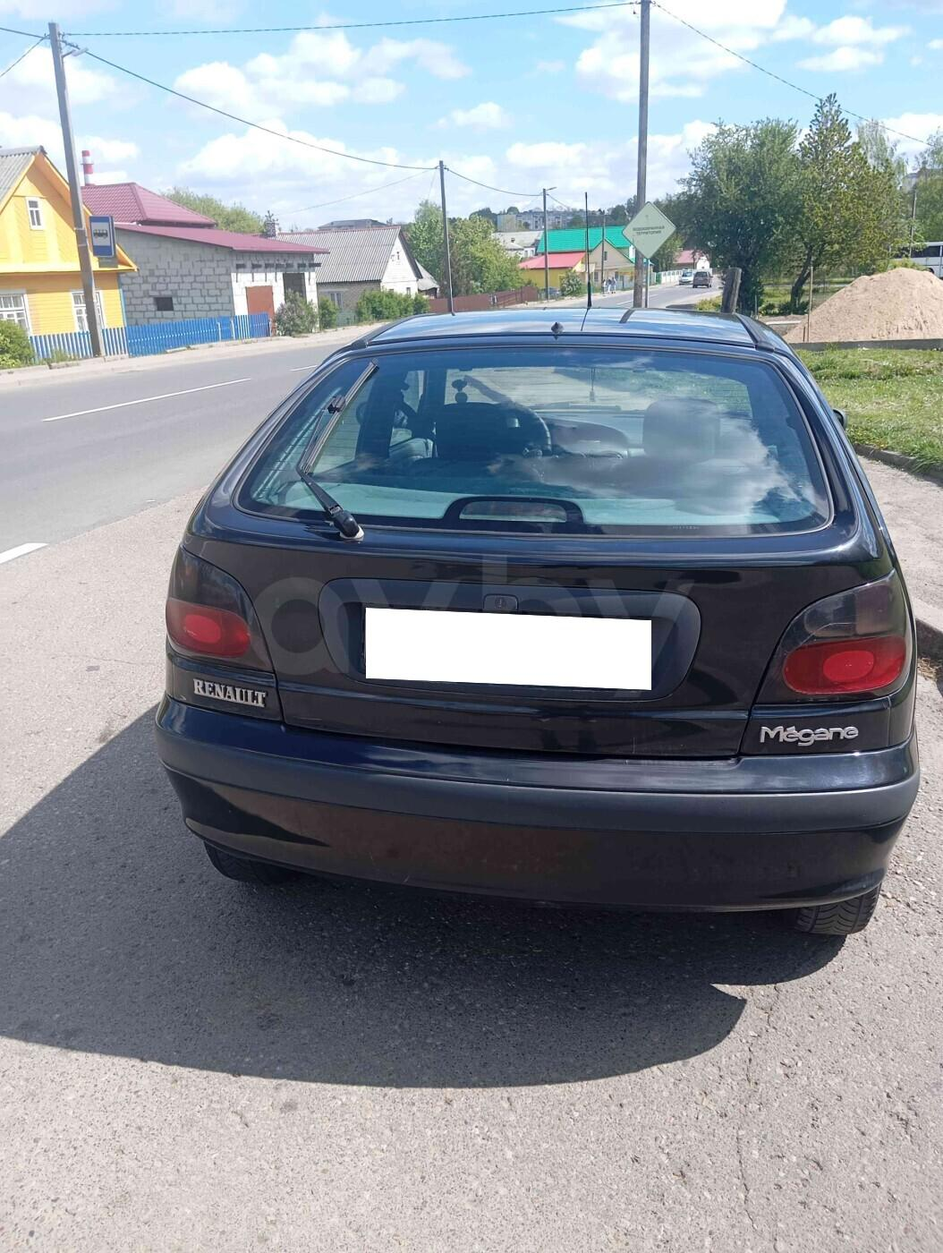Megane_1995-1999: (152, 299, 934, 954)
